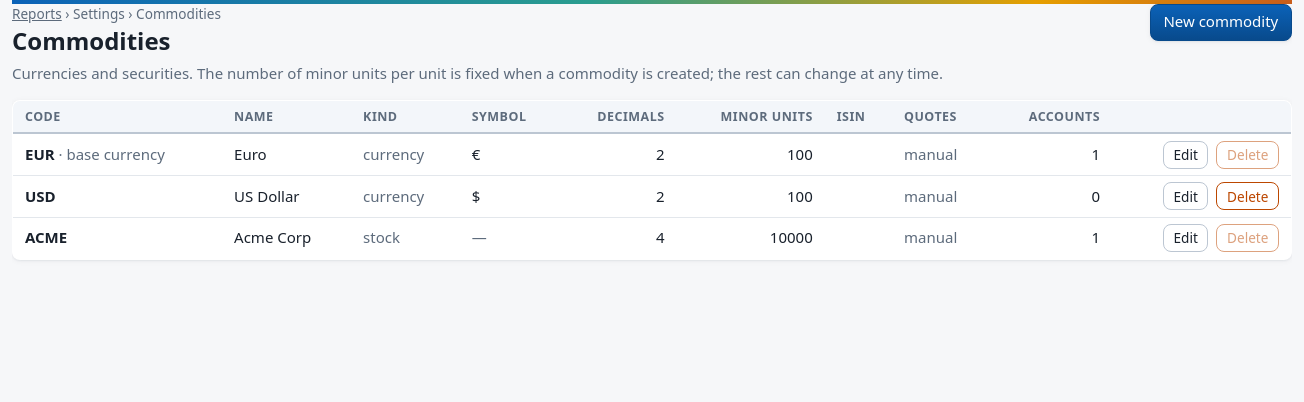
it: CommoditiesPage › deletes after confirmation and shows the server's refusal
The image size is (1304, 402).
Click the button with aria-label "Delete USD".
click(1248, 196)  # box [1216, 182, 1279, 210]
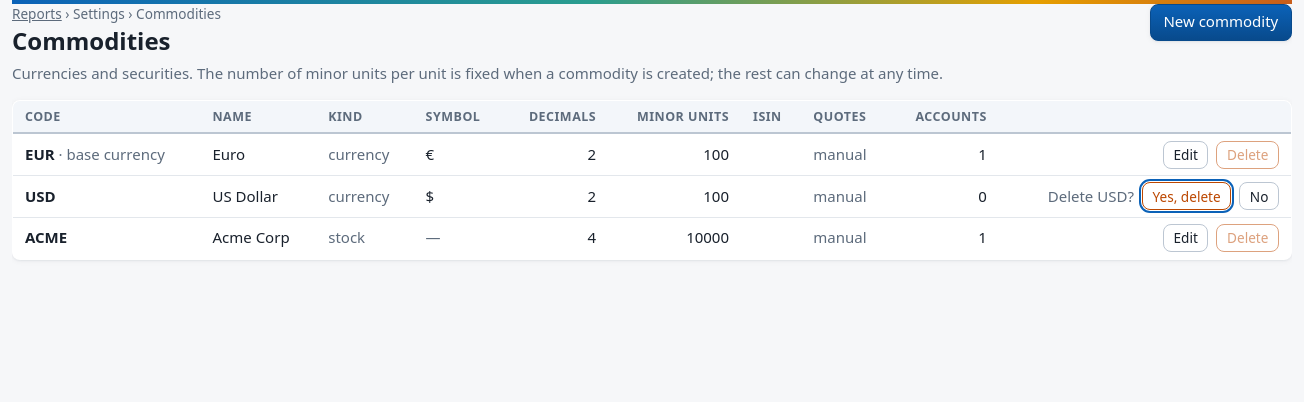
Click the button "Yes, delete".
click(1187, 196)  # box [1142, 182, 1231, 210]
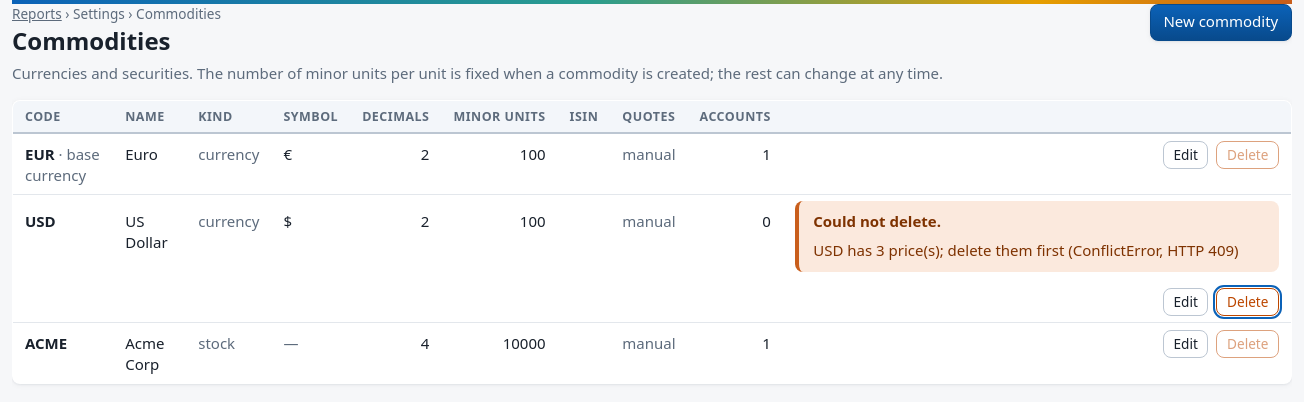
Expected: the text "USD has 3 price" is shown, [813, 240, 1239, 260]
